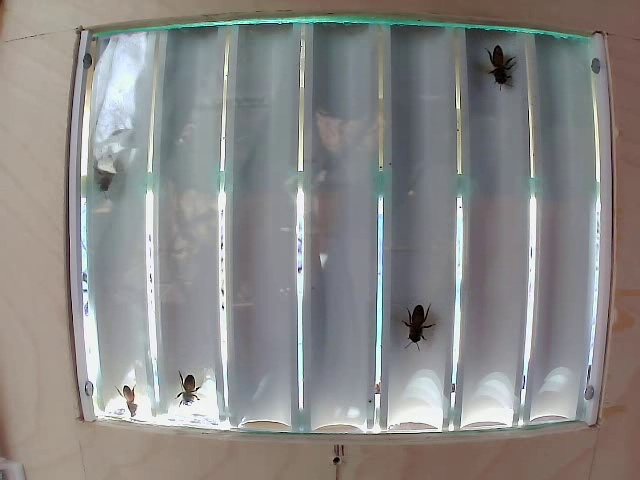bee: (478, 38, 517, 100), (403, 285, 442, 343), (174, 368, 216, 416)
